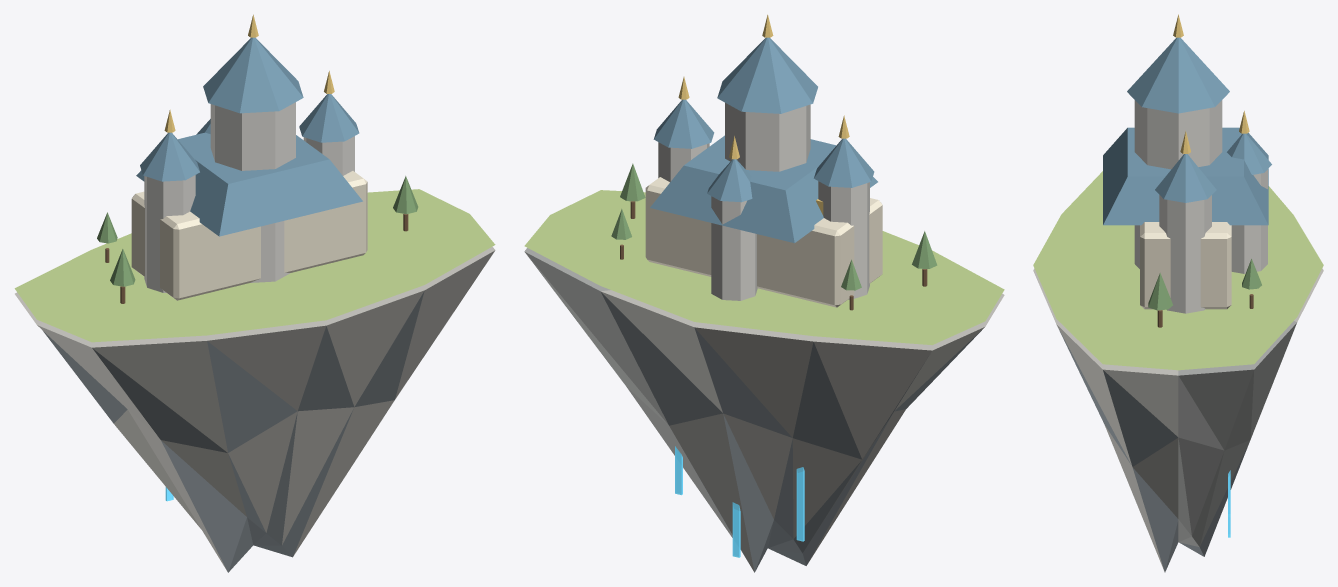
Rendered from MOD_DistantAcademyIsland.fbx.
3 renders of one model, left to right at view 1: azimuth 30°, elevation 25°; view 2: azimuth 150°, elevation 25°; view 3: azimuth 270°, elevation 25°, orthographic.
Parts seen in each view (by area): view 1: DST_FloatingIsland_Rock, DST_FloatingIsland_Grass, DST_Academy_Hall, DST_Academy_HallRoof, DST_Academy_Central_Body, DST_Academy_Central_Roof, DST_Academy_Left_Body, DST_Academy_Left_Roof, DST_Academy_Right_Roof, DST_Academy_Right_Body; view 2: DST_FloatingIsland_Rock, DST_FloatingIsland_Grass, DST_Academy_Hall, DST_Academy_HallRoof, DST_Academy_Central_Roof, DST_Academy_Central_Body, DST_Academy_Back_Body, DST_Academy_Left_Body, DST_Academy_Right_Roof, DST_Academy_Left_Roof, DST_Academy_Back_Roof, DST_Academy_Right_Body (+1 smaller); view 3: DST_FloatingIsland_Grass, DST_FloatingIsland_Rock, DST_Academy_HallRoof, DST_Academy_Central_Body, DST_Academy_Hall, DST_Academy_Central_Roof, DST_Academy_Right_Body, DST_Academy_Back_Body, DST_Academy_Right_Roof, DST_Academy_Back_Roof, DST_Tree_1_Crown.
Part boxes in pixels (box(x1,y1,x2,y2)): DST_FloatingIsland_Rock: box(15, 246, 495, 572); DST_FloatingIsland_Grass: box(14, 189, 495, 342); DST_Academy_Hall: box(131, 171, 367, 300); DST_Academy_HallRoof: box(136, 132, 362, 236); DST_Academy_Central_Body: box(210, 102, 295, 282); DST_Academy_Central_Roof: box(203, 37, 303, 113); DST_Academy_Left_Body: box(144, 175, 195, 292); DST_Academy_Left_Roof: box(140, 132, 199, 181); DST_Academy_Right_Roof: box(299, 94, 359, 142); DST_Academy_Right_Body: box(303, 136, 354, 175); DST_FloatingIsland_Rock: box(524, 248, 1004, 572); DST_FloatingIsland_Grass: box(524, 190, 1004, 345); DST_Academy_Hall: box(645, 177, 882, 307); DST_Academy_HallRoof: box(650, 135, 877, 243); DST_Academy_Central_Roof: box(717, 37, 817, 113); DST_Academy_Central_Body: box(725, 103, 810, 171); DST_Academy_Back_Body: box(711, 196, 757, 300); DST_Academy_Left_Body: box(818, 181, 869, 299); DST_Academy_Right_Roof: box(653, 99, 714, 148); DST_Academy_Left_Roof: box(814, 138, 874, 187); DST_Academy_Back_Roof: box(707, 159, 752, 202); DST_Academy_Right_Body: box(658, 142, 709, 181); DST_FloatingIsland_Grass: box(1033, 171, 1323, 370); DST_FloatingIsland_Rock: box(1033, 268, 1323, 572); DST_Academy_HallRoof: box(1103, 127, 1268, 225); DST_Academy_Central_Body: box(1134, 100, 1222, 268); DST_Academy_Hall: box(1140, 222, 1231, 309); DST_Academy_Central_Roof: box(1127, 37, 1229, 113); DST_Academy_Right_Body: box(1159, 195, 1211, 313); DST_Academy_Back_Body: box(1231, 169, 1267, 273); DST_Academy_Right_Roof: box(1155, 154, 1216, 202); DST_Academy_Back_Roof: box(1227, 133, 1271, 174); DST_Tree_1_Crown: box(1148, 273, 1172, 310).
Size of the model in its own units: 9.38 by 11.31 by 5.49.
